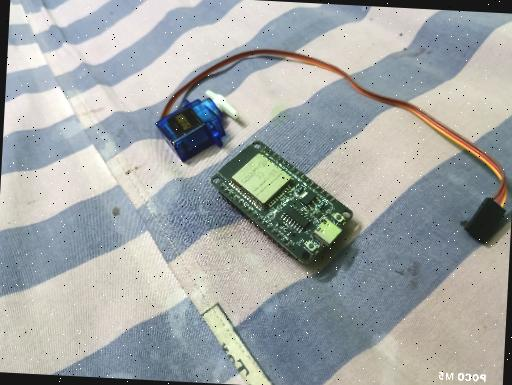Esp32: (205, 137, 357, 267)
Motor: (152, 86, 240, 166)
